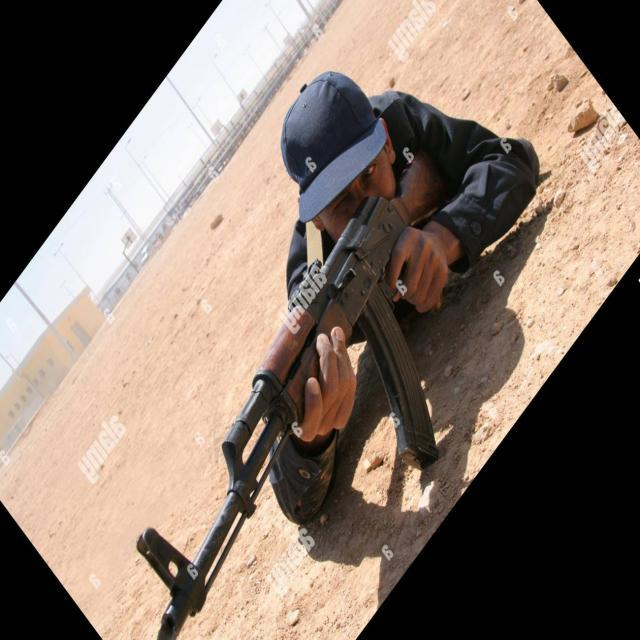weapon: (136, 150, 464, 640)
